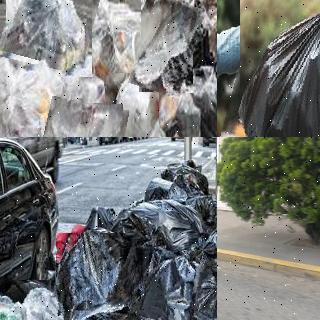Garbage: (226, 0, 320, 137), (49, 228, 143, 320), (0, 0, 97, 81), (120, 247, 209, 320), (134, 0, 199, 95), (127, 197, 217, 256), (0, 59, 59, 137), (105, 72, 160, 137), (42, 99, 126, 137), (0, 275, 64, 320), (160, 159, 210, 196), (139, 171, 189, 207), (186, 267, 217, 320), (206, 218, 217, 275)
